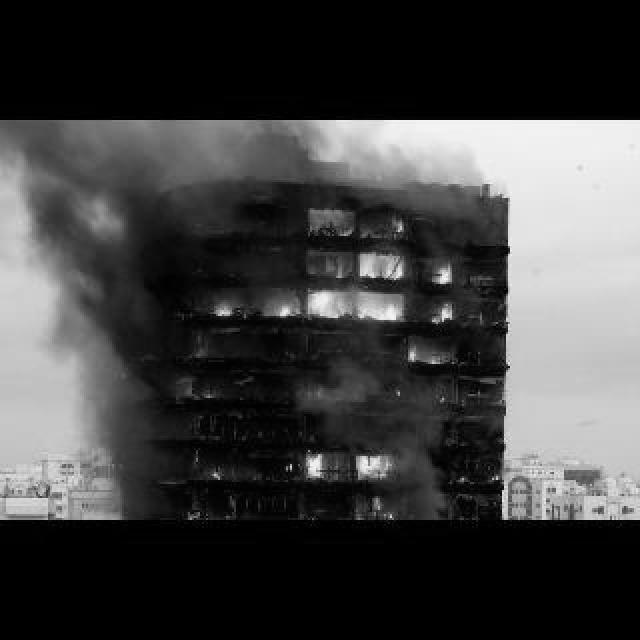Fire: (218, 208, 482, 362), (304, 452, 400, 518), (210, 464, 226, 486)
Smoke: (20, 124, 188, 518), (190, 120, 494, 204), (294, 360, 422, 452), (400, 386, 458, 518)
